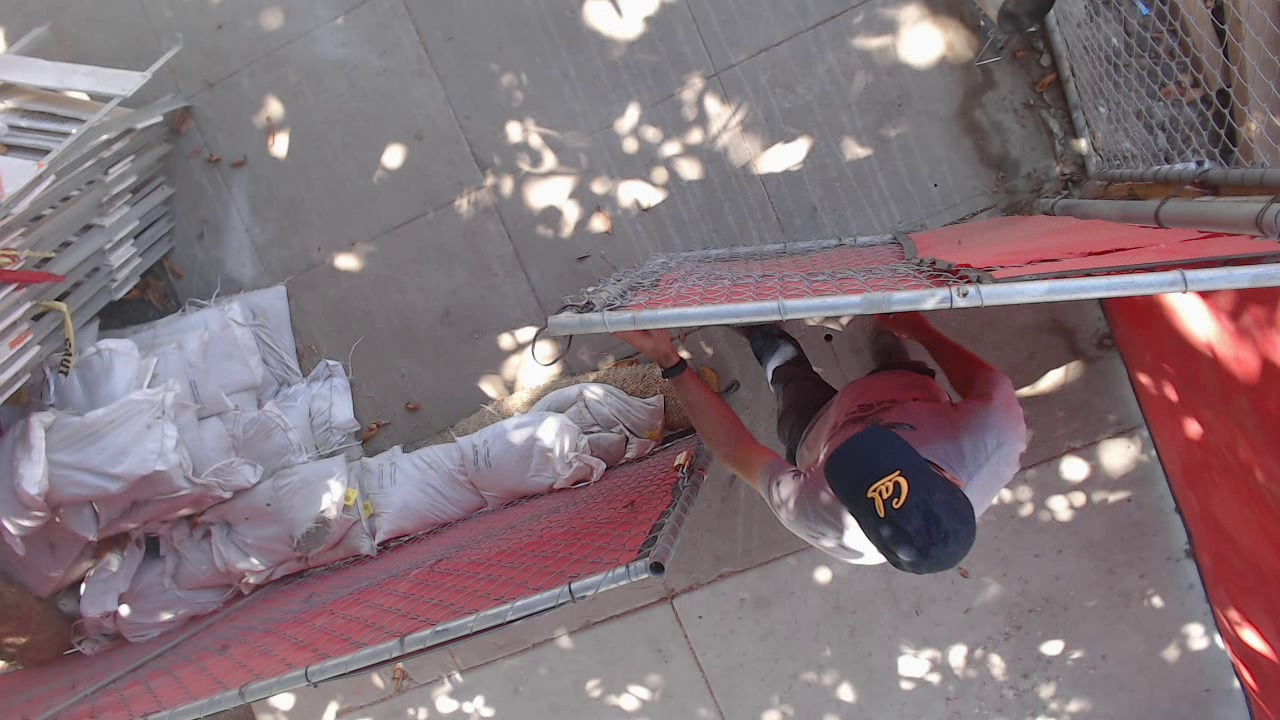person: (308, 119, 650, 354)
safetyvest: (317, 177, 564, 343)
